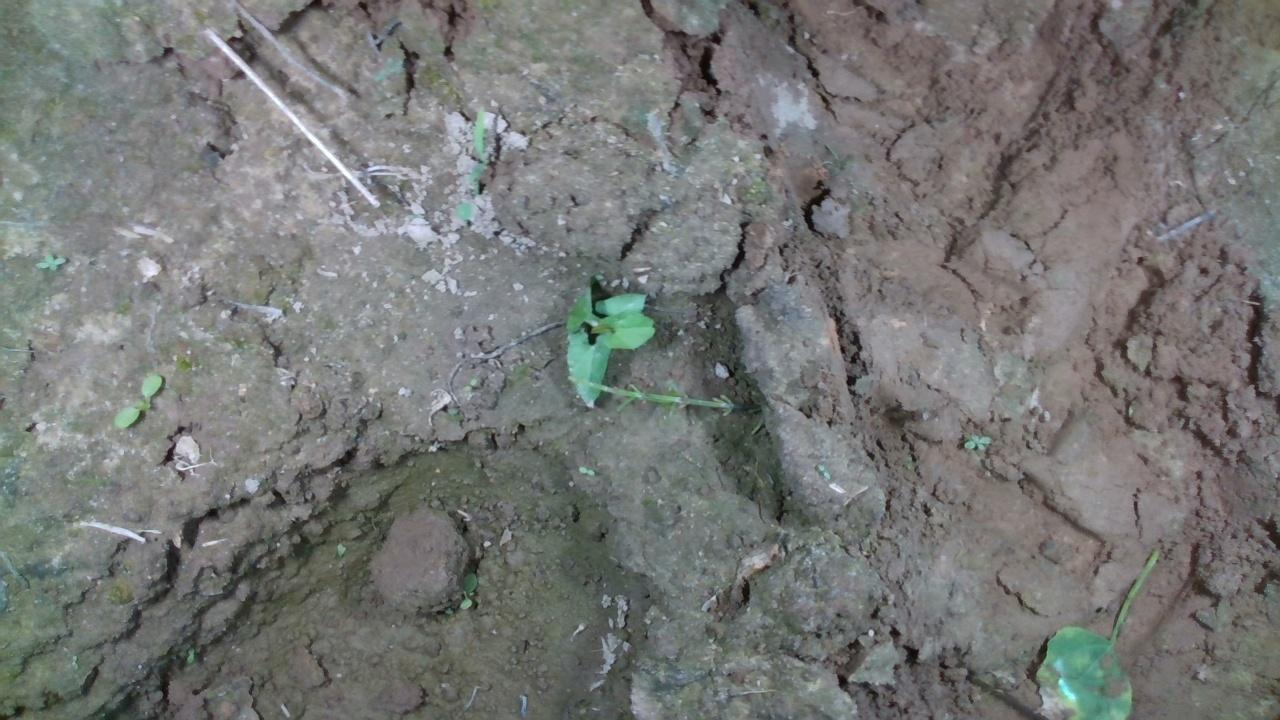weed: (116, 368, 173, 427), (956, 429, 994, 452)
